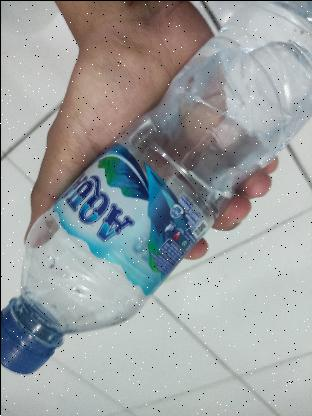Plastic Bottle: (0, 0, 312, 388)
